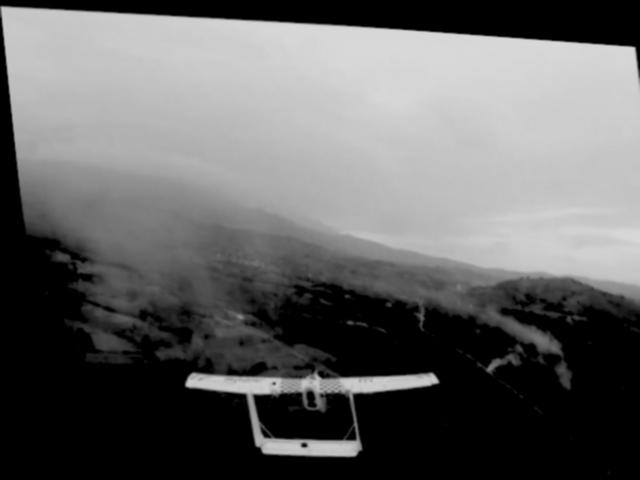hedef: (171, 347, 443, 465)
